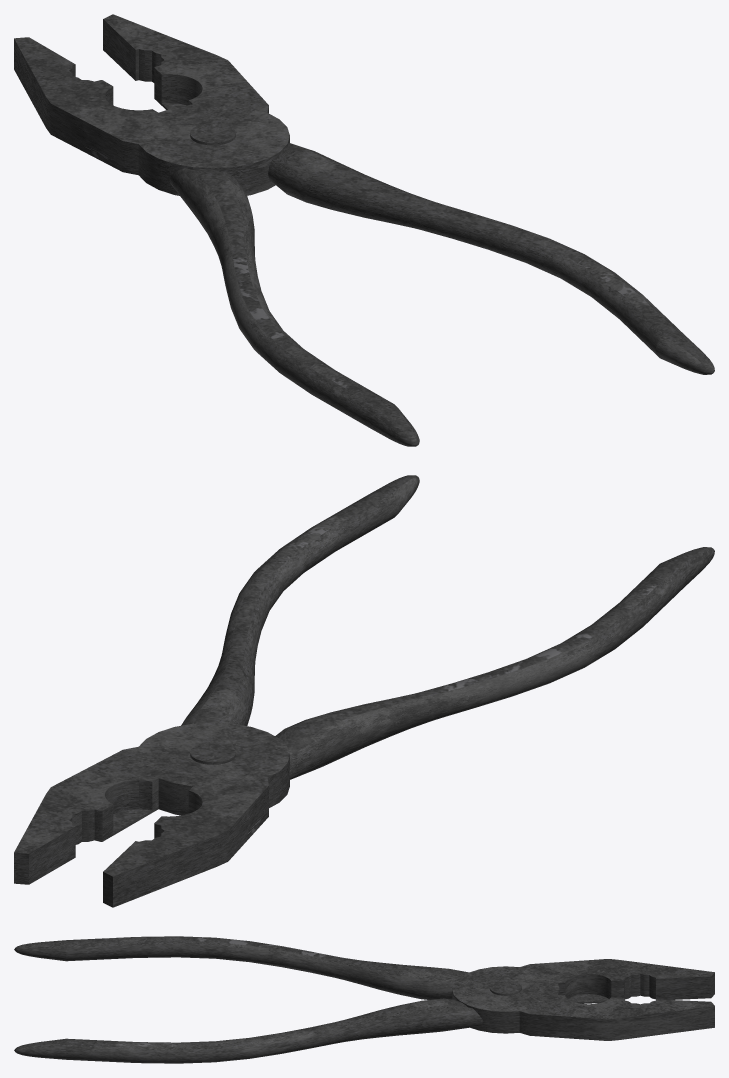
The model's file is pliers.fbx.
The picture shows the model from 3 angles, top to bottom: view 1: azimuth 30°, elevation 25°; view 2: azimuth 150°, elevation 25°; view 3: azimuth 270°, elevation 25°; orthographic projection. The views are drawn at different scales.
Visible parts, largest first — view 1: Pliers; view 2: Pliers; view 3: Pliers.
Boxes of the visible parts, x1,y1,x2,y2 form: Pliers: [14, 14, 714, 446]; Pliers: [14, 475, 714, 907]; Pliers: [14, 936, 714, 1063].
Size of the model in its own units: 9.29 by 1.04 by 23.44.
